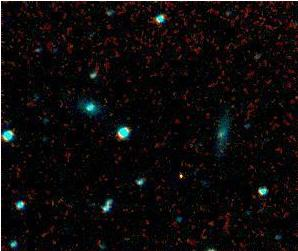star: (163, 160, 193, 190)
